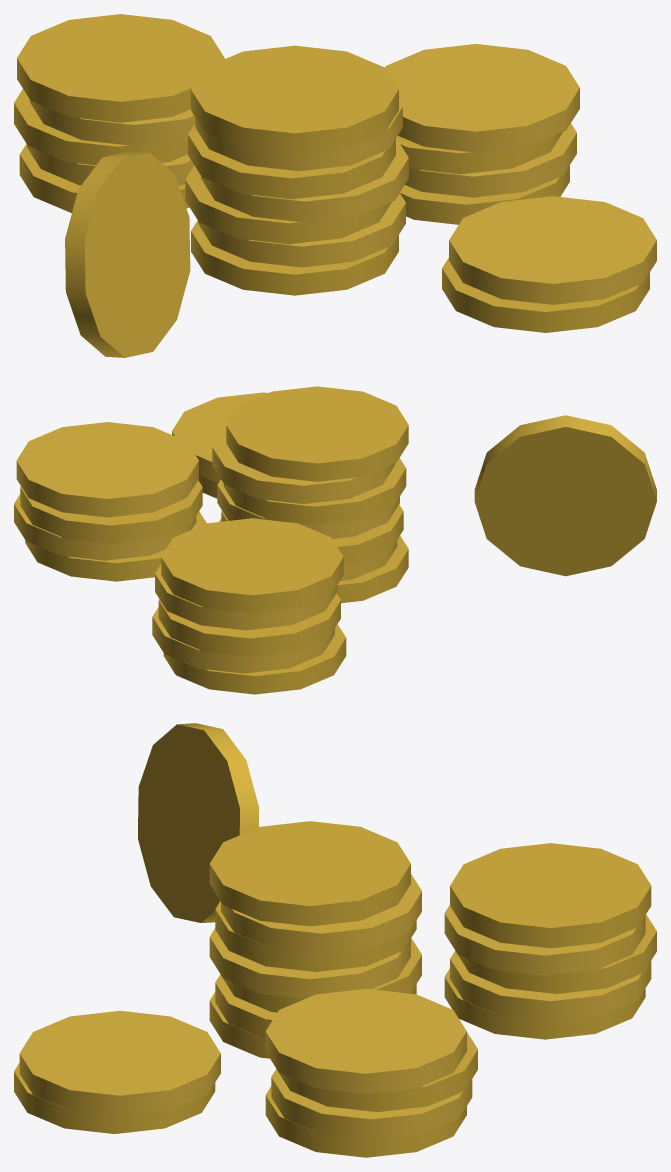
The model's file is coins.glb.
3 views of the same model, one above another, from view 1: azimuth 30°, elevation 25°; view 2: azimuth 150°, elevation 25°; view 3: azimuth 270°, elevation 25° (orthographic). The views are drawn at different scales.
Parts seen in each view (by area): view 1: coins; view 2: coins; view 3: coins.
Part boxes in pixels (x1,y1,x2,y2): coins: [14, 14, 656, 357]; coins: [14, 386, 656, 694]; coins: [14, 723, 656, 1157].
Bounding box in the file's own units: 0.1216 × 0.0361 × 0.115.
